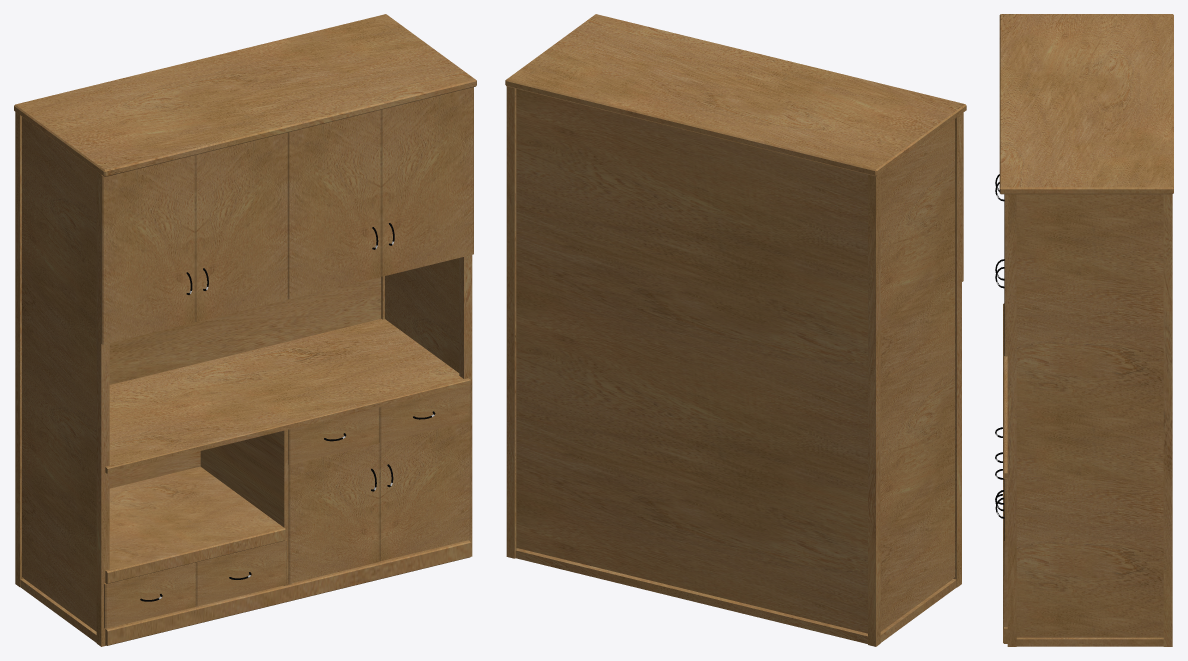
File: cupboard_B_c01.fbx
3 views of the same model, side by side, from view 1: azimuth 30°, elevation 25°; view 2: azimuth 150°, elevation 25°; view 3: azimuth 270°, elevation 25° (orthographic). The views are drawn at different scales.
Visible parts, largest first — view 1: body, door_05, door_03, door_06, door_04, door_01, door_02, hikidaasi_01, hikidaasi_02, hikidaasi_04, hikidaasi_03; view 2: body; view 3: body, door_03, door_02.
Part boxes in pixels (bbox=[...]): body: bbox=[14, 14, 476, 646]; door_05: bbox=[101, 155, 195, 344]; door_03: bbox=[381, 87, 473, 276]; door_06: bbox=[195, 132, 287, 321]; door_04: bbox=[288, 110, 380, 299]; door_01: bbox=[288, 443, 379, 583]; door_02: bbox=[379, 421, 470, 561]; hikidaasi_01: bbox=[104, 562, 195, 628]; hikidaasi_02: bbox=[196, 540, 286, 606]; hikidaasi_04: bbox=[379, 385, 470, 442]; hikidaasi_03: bbox=[288, 407, 379, 464]; body: bbox=[505, 14, 966, 646]; body: bbox=[999, 14, 1173, 646]; door_03: bbox=[995, 194, 1007, 356]; door_02: bbox=[995, 497, 1007, 627].
Bounding box in the file's own units: 14.06 × 17.25 × 6.09.
2 materials, 1 textured.
